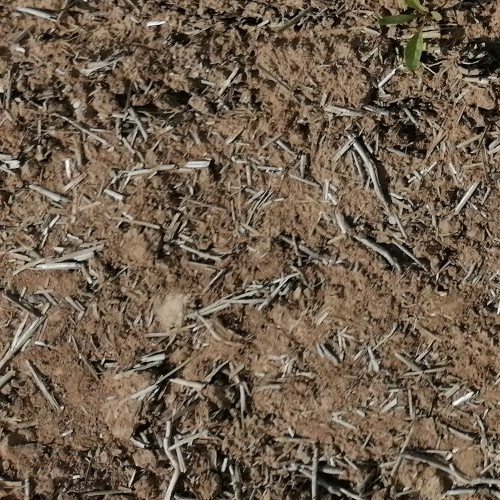beet: (378, 0, 440, 71)
